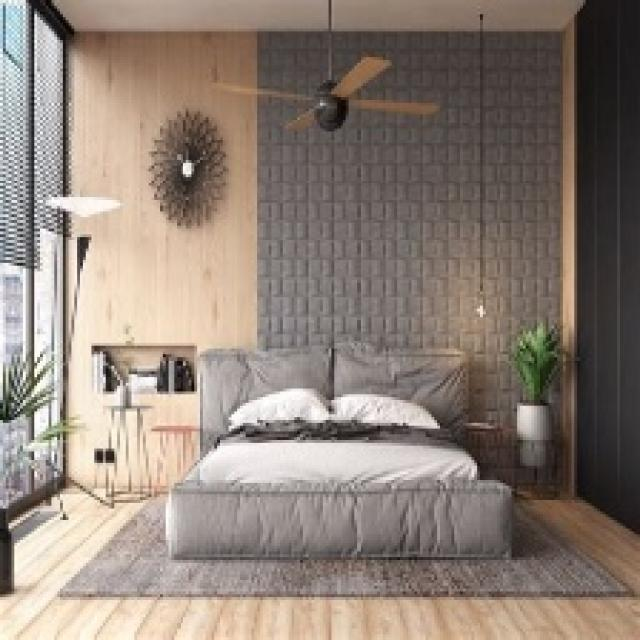Bed: (163, 343, 511, 560)
